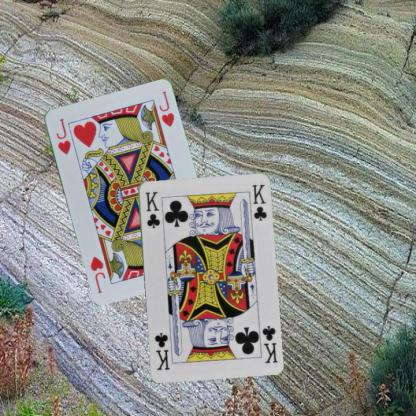Jh: (53, 116, 72, 156)
Kc: (142, 189, 161, 229), (260, 322, 278, 364)
